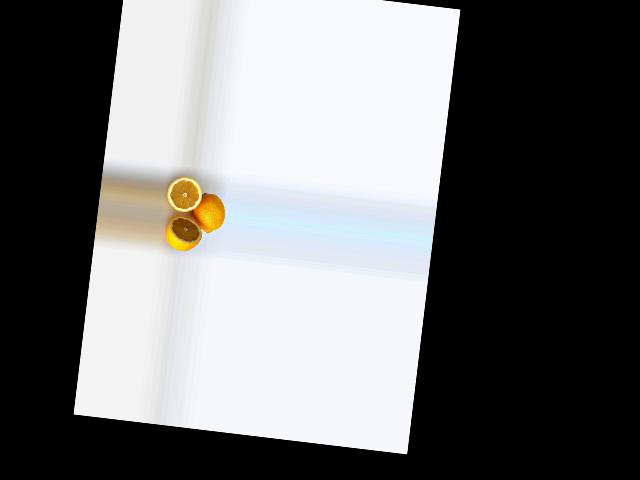lemon: (191, 188, 228, 238)
